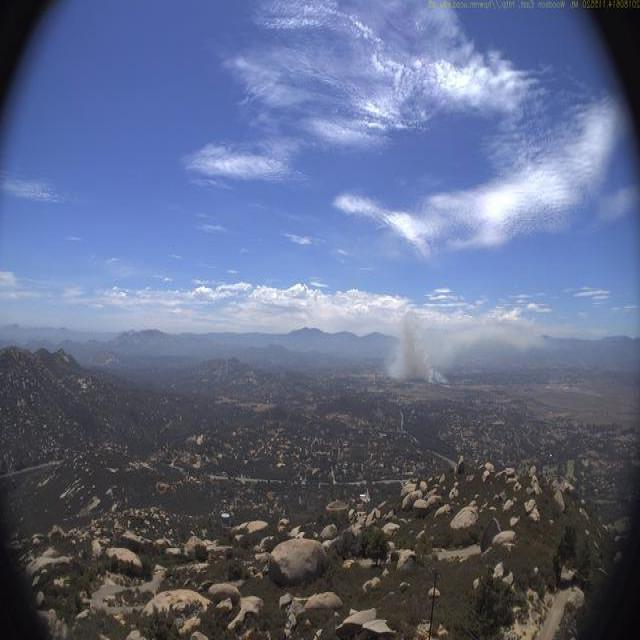Smoke: (384, 303, 549, 387)
